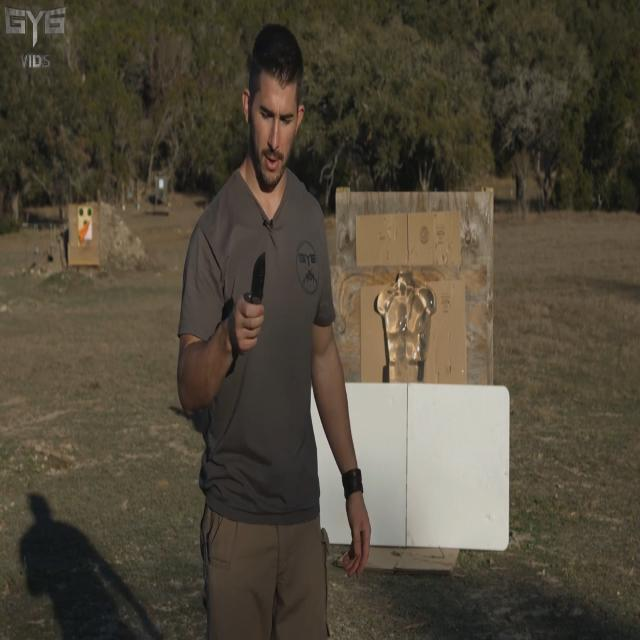knife: (250, 249, 268, 314)
